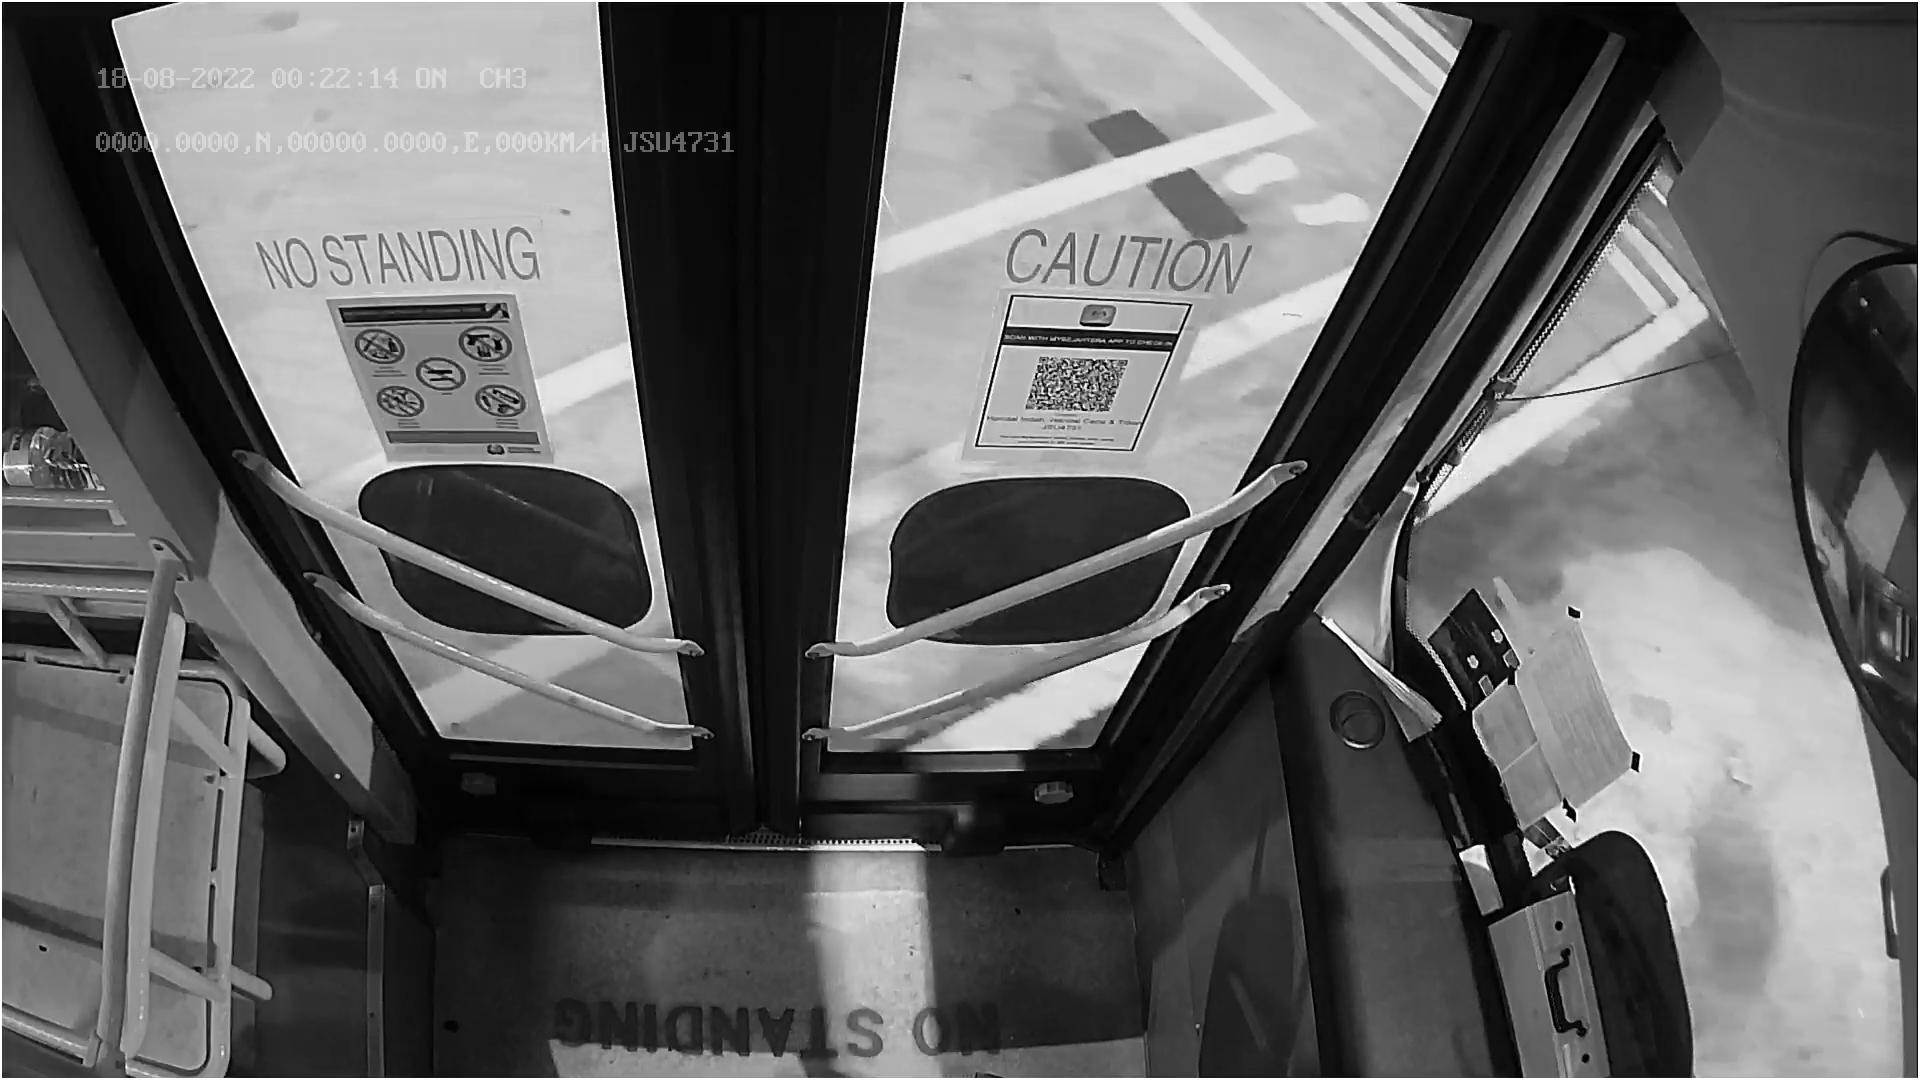close: (125, 0, 1452, 166)
